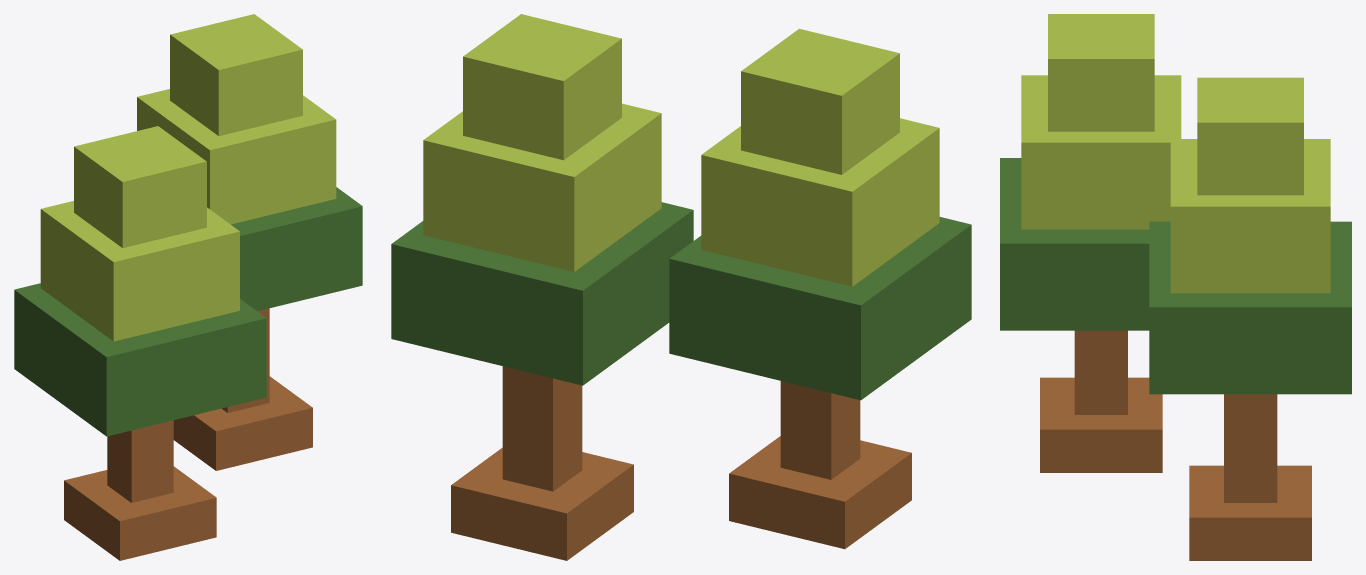
File: base_woods.glb
3 views of the same model, side by side, from view 1: azimuth 30°, elevation 25°; view 2: azimuth 150°, elevation 25°; view 3: azimuth 270°, elevation 25° (orthographic). The views are drawn at different scales.
Parts seen in each view (by area): view 1: canopy, canopy.001, canopy.004, canopy.005, canopy.002, canopy.003, root, root.001, trunk, trunk.001; view 2: canopy, canopy.003, canopy.004, canopy.001, canopy.002, canopy.005, root.001, root, trunk.001, trunk; view 3: canopy.003, canopy.004, canopy.001, canopy, canopy.005, canopy.002, root.001, root, trunk.001, trunk.
Boxes of the visible parts, x1=… form: canopy: x1=14, y1=283, x2=266, y2=436; canopy.001: x1=40, y1=201, x2=239, y2=341; canopy.004: x1=137, y1=89, x2=336, y2=224; canopy.005: x1=170, y1=14, x2=302, y2=135; canopy.002: x1=74, y1=126, x2=206, y2=247; canopy.003: x1=231, y1=187, x2=362, y2=311; root: x1=64, y1=466, x2=216, y2=560; root.001: x1=173, y1=376, x2=312, y2=470; trunk: x1=107, y1=420, x2=173, y2=502; trunk.001: x1=221, y1=308, x2=269, y2=412; canopy: x1=669, y1=217, x2=971, y2=400; canopy.003: x1=391, y1=202, x2=693, y2=385; canopy.004: x1=423, y1=103, x2=661, y2=271; canopy.001: x1=701, y1=118, x2=939, y2=286; canopy.002: x1=741, y1=28, x2=899, y2=174; canopy.005: x1=463, y1=14, x2=621, y2=160; root.001: x1=451, y1=447, x2=633, y2=560; root: x1=729, y1=436, x2=911, y2=549; trunk.001: x1=502, y1=366, x2=582, y2=491; trunk: x1=780, y1=381, x2=860, y2=479; canopy.003: x1=1149, y1=221, x2=1351, y2=394; canopy.004: x1=1170, y1=139, x2=1330, y2=293; canopy.001: x1=1021, y1=75, x2=1181, y2=229; canopy: x1=1000, y1=158, x2=1149, y2=330; canopy.005: x1=1197, y1=77, x2=1303, y2=195; canopy.002: x1=1048, y1=14, x2=1154, y2=131; root.001: x1=1189, y1=465, x2=1311, y2=560; root: x1=1040, y1=377, x2=1162, y2=472; trunk.001: x1=1224, y1=394, x2=1277, y2=502; trunk: x1=1074, y1=330, x2=1127, y2=414.
Bounding box in the file's own units: 0.77 × 0.9 × 0.66.
